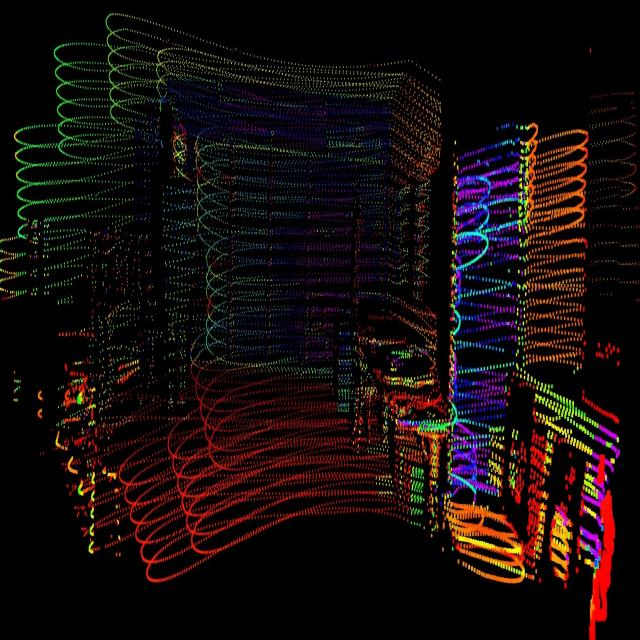human: (159, 102, 208, 415)
